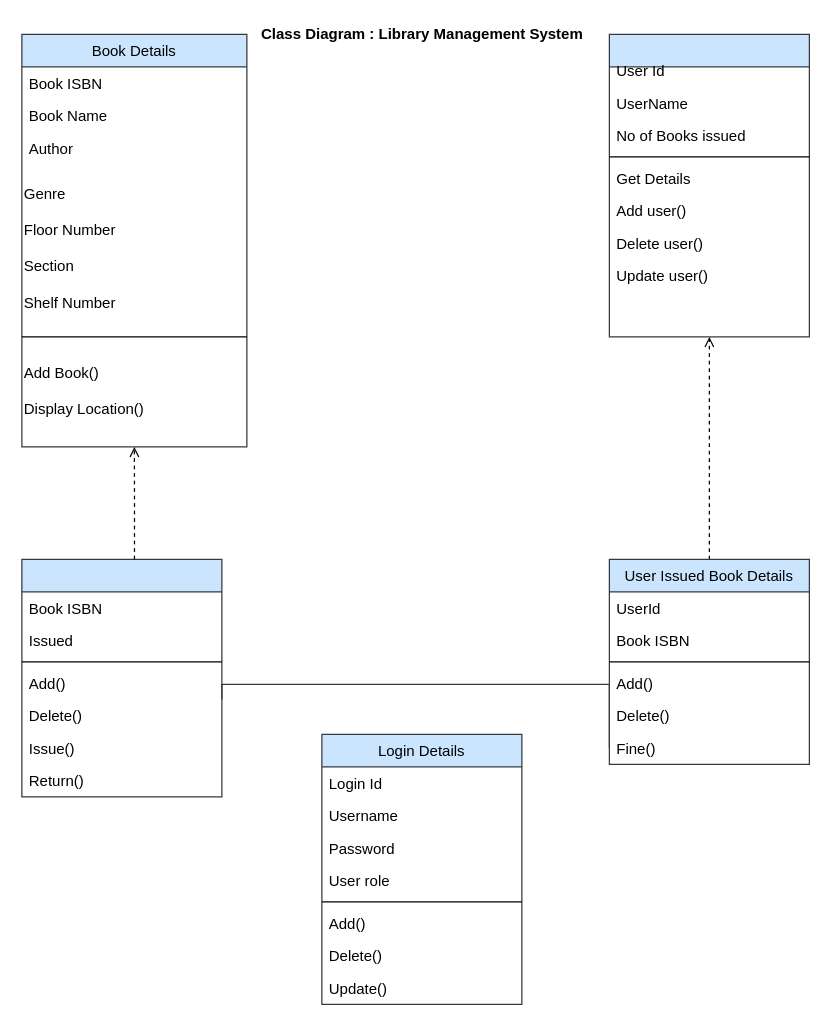
Image size: 831x1029. Some labels were removed from this diagram. Each missing label, with the box of its shape:
Issued Book Details: (21, 558, 222, 797)
User Details: (608, 33, 809, 337)
